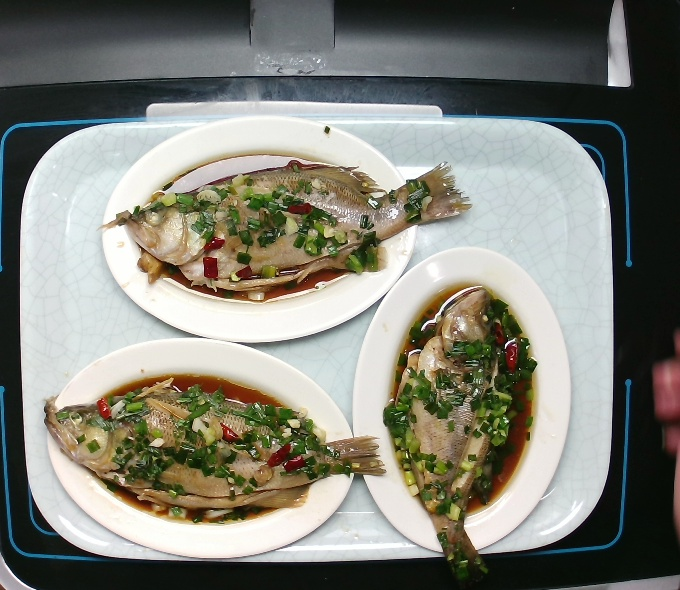wcq-LuYu: (95, 151, 473, 304), (39, 372, 391, 524), (378, 280, 529, 590)
